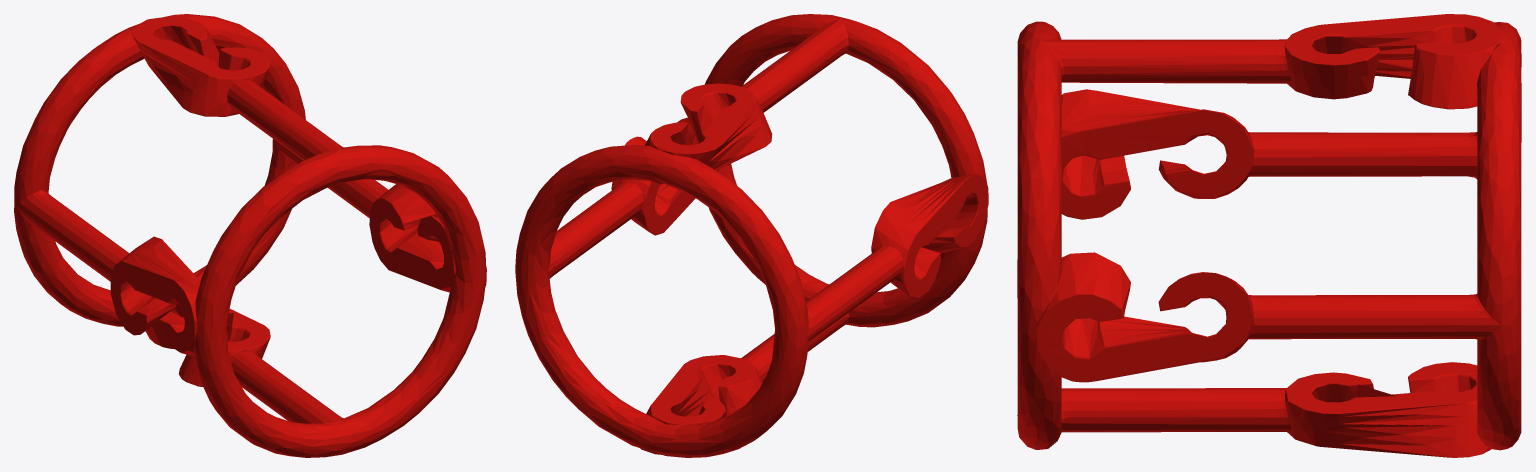
Rendered from frame.obj.
3 renders of one model, left to right at view 1: azimuth 30°, elevation 25°; view 2: azimuth 150°, elevation 25°; view 3: azimuth 270°, elevation 25°, orthographic. The views are drawn at different scales.
Parts seen in each view (by area): view 1: screw_screw_mechanism_cage_0.4mm_clearance; view 2: screw_screw_mechanism_cage_0.4mm_clearance; view 3: screw_screw_mechanism_cage_0.4mm_clearance.
Boxes of the visible parts, <box> form: screw_screw_mechanism_cage_0.4mm_clearance: <box>14,14,486,457</box>; screw_screw_mechanism_cage_0.4mm_clearance: <box>515,14,988,457</box>; screw_screw_mechanism_cage_0.4mm_clearance: <box>1017,14,1521,457</box>.
Bounding box in the file's own units: 35.42 × 35.42 × 41.19.
